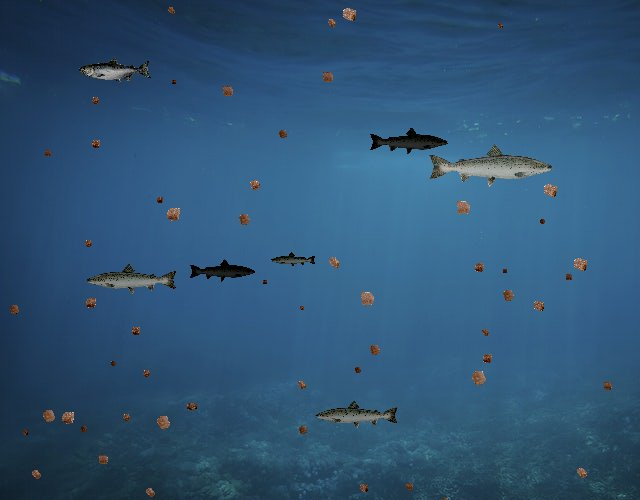Fish: (426, 142, 555, 188), (86, 262, 180, 296), (314, 399, 400, 430), (369, 127, 450, 156), (80, 57, 153, 83), (189, 258, 257, 282), (271, 251, 318, 268)
Pellet: (159, 200, 187, 228), (322, 251, 346, 275), (232, 208, 256, 232), (243, 174, 266, 197), (4, 299, 25, 320), (163, 3, 180, 20), (80, 236, 96, 252), (19, 427, 31, 439)
